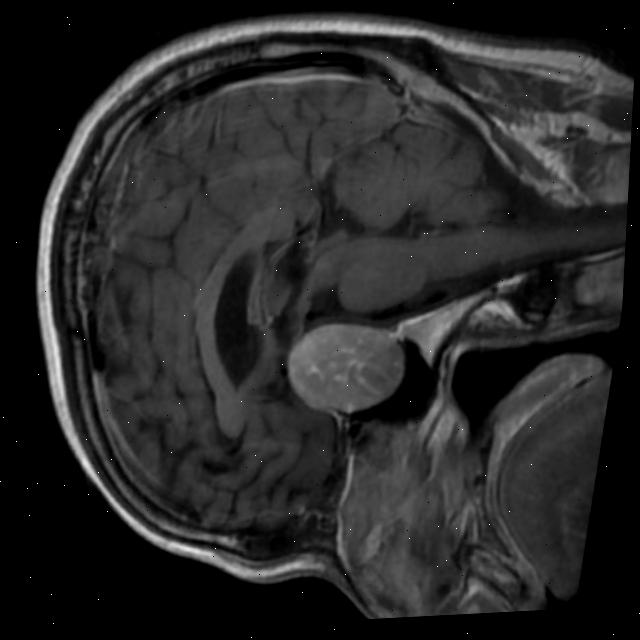Pituitary: (279, 313, 412, 422)
